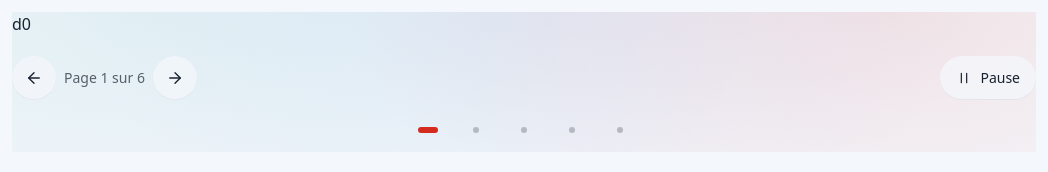
Test: homepage showcase › French controls interpolate the current page and retain the resume action
expect the text "Page 1 sur 6" is shown: met, box left=64, top=68, right=145, bottom=88
Click the button named "Suivant".
click(175, 78)  # box left=153, top=56, right=197, bottom=100
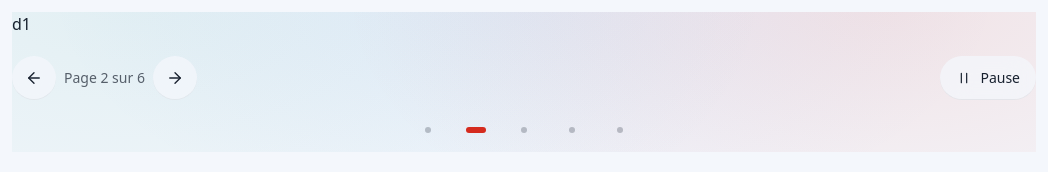
expect the text "Page 2 sur 6" is shown: met, box left=64, top=68, right=145, bottom=88
Click the button "Pause".
click(988, 78)  # box left=940, top=56, right=1036, bottom=100
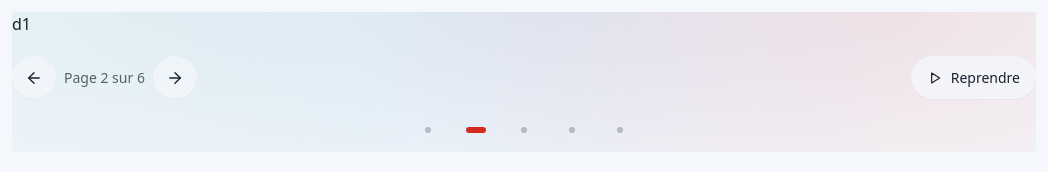
expect the button "Reprendre" is shown: met, box left=911, top=56, right=1036, bottom=100
